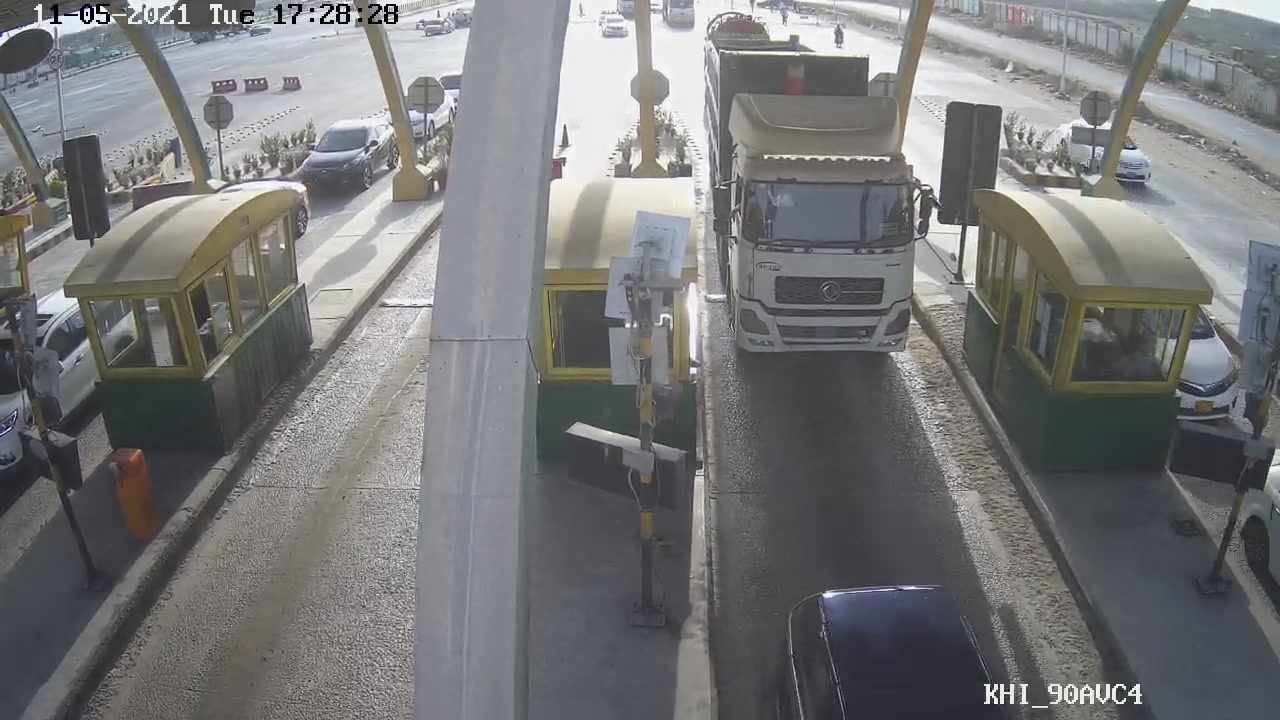F6: (706, 44, 934, 359)
